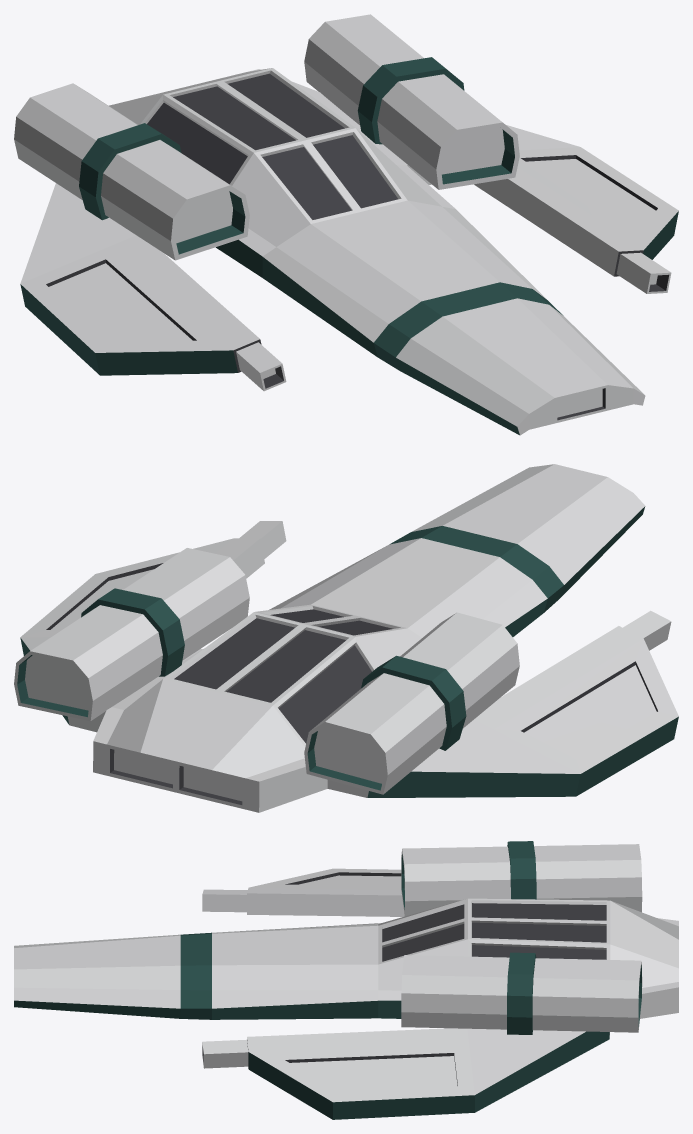
File: wraith.glb
3 renders of one model, top to bottom at view 1: azimuth 30°, elevation 25°; view 2: azimuth 150°, elevation 25°; view 3: azimuth 270°, elevation 25°, orthographic. The views are drawn at different scales.
Visible parts, largest first — view 1: Wraith_Fighter; view 2: Wraith_Fighter; view 3: Wraith_Fighter.
Part boxes in pixels (x1,y1,x2,y2): Wraith_Fighter: [14, 14, 678, 435]; Wraith_Fighter: [14, 464, 678, 812]; Wraith_Fighter: [14, 841, 678, 1119].
Size of the model in its own units: 6.85 by 1.36 by 8.25.
